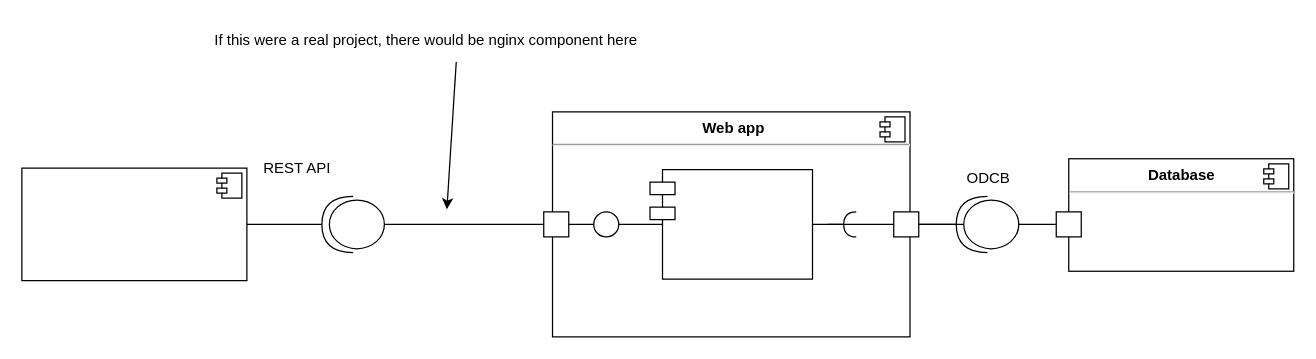
Some shapes in this 1316 by 359 pixel diagram are drawn without their labels. Here are the shapes that lost their labels. From the top down, the centre of each, then its label:
pixel 134 224: Client
pixel 730 223: PingModule
